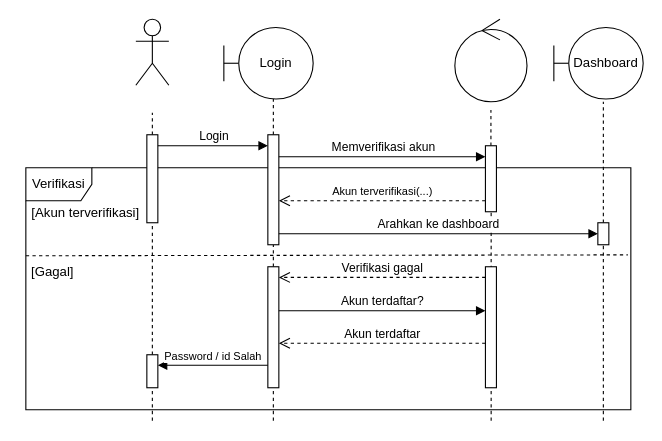
Some shapes in this 662 by 441 pixel diagram are drawn without their labels. Each missing label, with the centre of its shape:
Acc sistem: the point at 490,60
Actor: the point at 152,51
